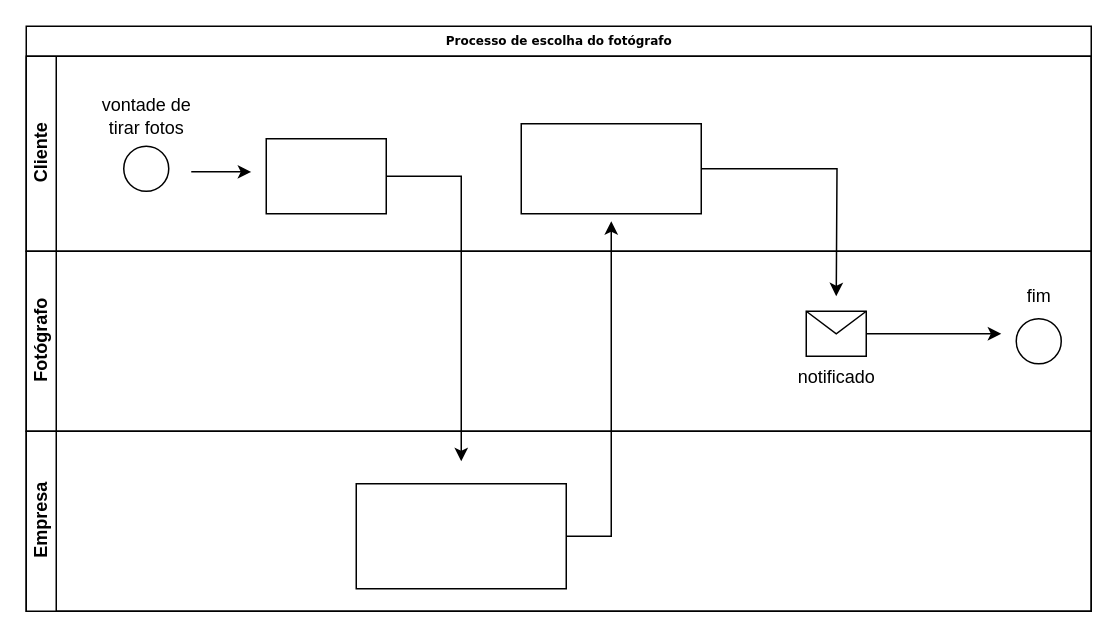
Image size: 1118x638. Some labels were removed from this diagram. The centre of each missing label's shape, as x and y in pixels:
apresenta qual o tipo de fotógrafo: the point at 325,175
escolhe fotógrafo desejado: the point at 610,168
filtra os fotógrafos que se encaixam: the point at 460,535
